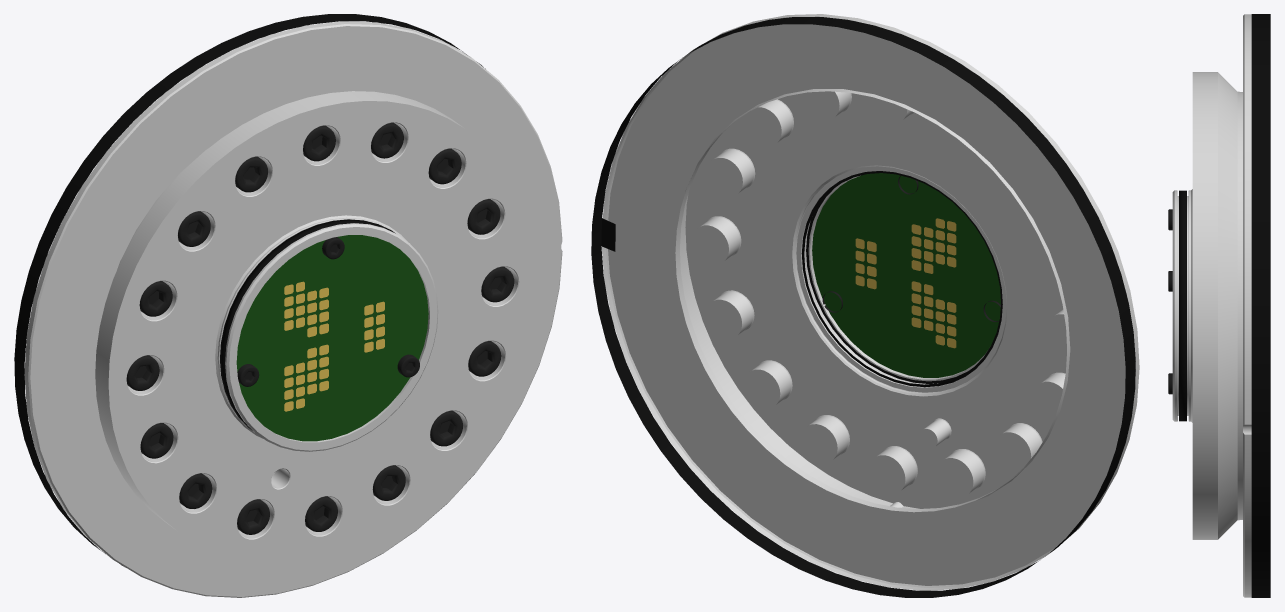
The model's file is D116-G-distal.glb.
3 renders of one model, left to right at view 1: azimuth 30°, elevation 25°; view 2: azimuth 150°, elevation 25°; view 3: azimuth 270°, elevation 25°, orthographic. The views are drawn at different scales.
Parts seen in each view (by area): view 1: D116-G-distal.001; view 2: D116-G-distal.001; view 3: D116-G-distal.001.
Part boxes in pixels (x1=…): D116-G-distal.001: x1=14, y1=14, x2=562, y2=597; D116-G-distal.001: x1=591, y1=14, x2=1139, y2=597; D116-G-distal.001: x1=1168, y1=14, x2=1270, y2=597.
Bounding box in the file's own units: 0.116 × 0.116 × 0.0203.
